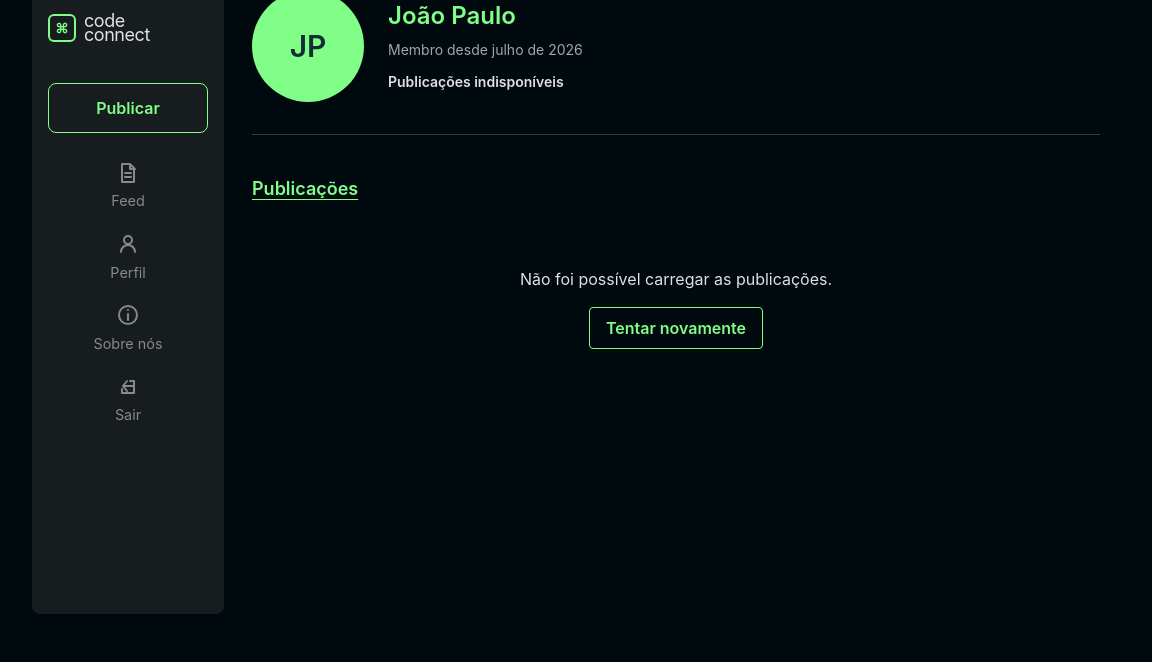
Test: ProfilePage › retries an initial error and preserves previous items on an additional-page error
expect the message shows "Não foi possível carregar as publicações.": met, box top-left (520, 269), bottom-right (832, 289)
Click the button "Tentar novamente": (676, 328) top-left (589, 307), bottom-right (763, 349)
(page scrolled)
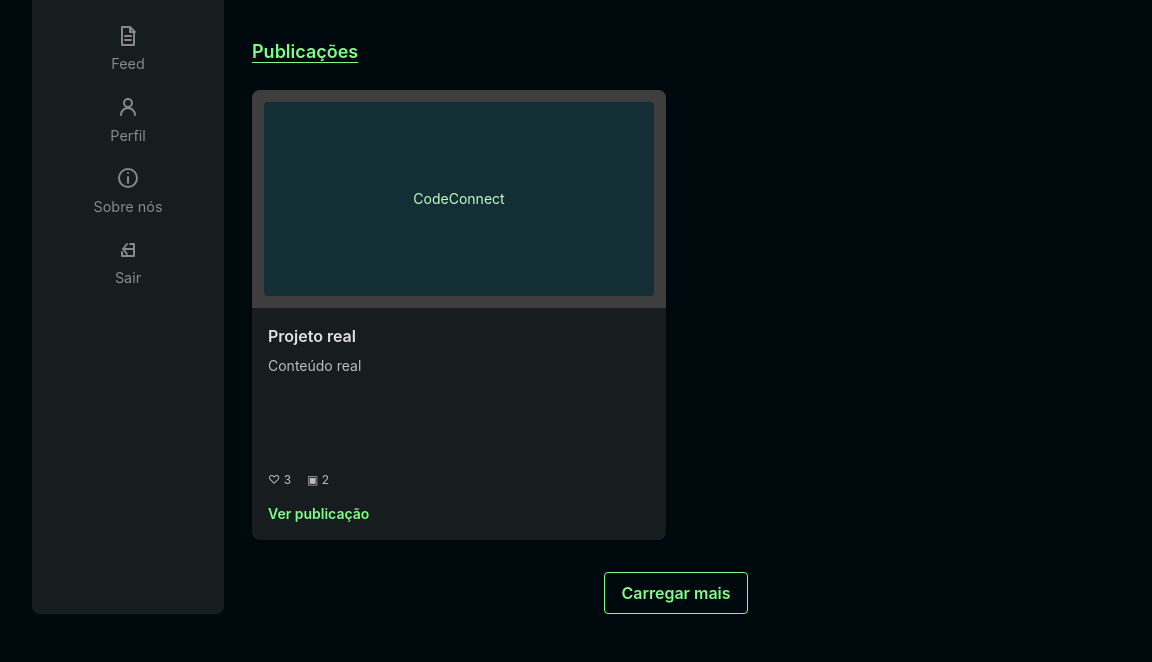
expect the heading "Projeto real" is shown: met, box top-left (268, 326), bottom-right (356, 346)
Click the button "Carregar mais": (676, 593) top-left (604, 572), bottom-right (748, 614)
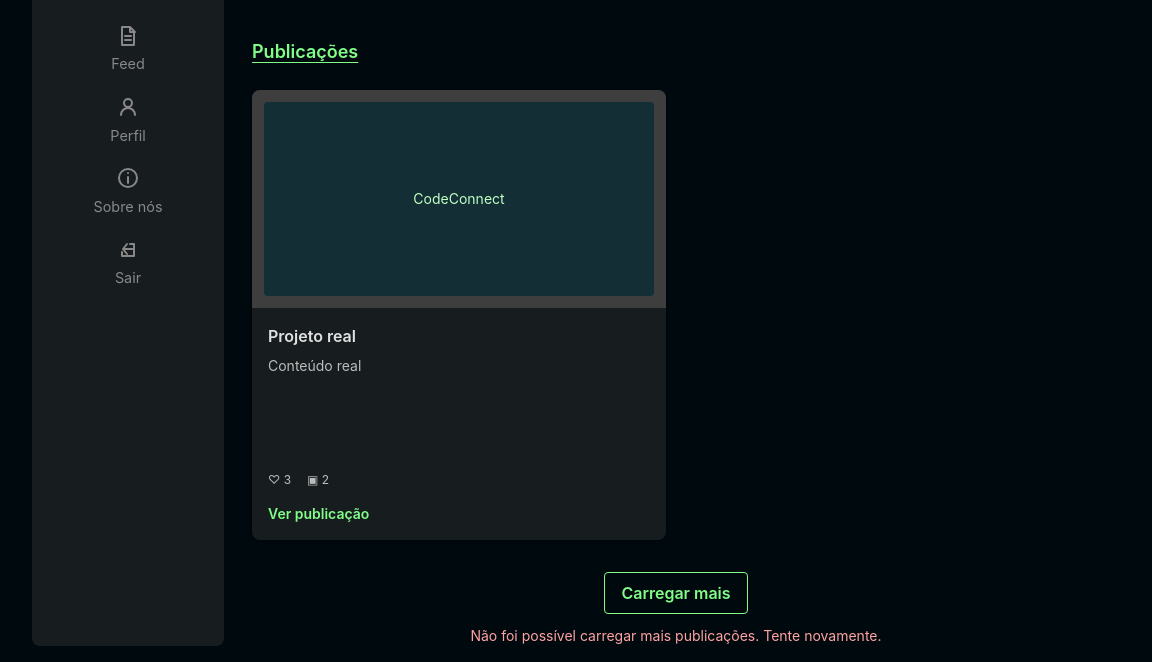
expect the heading "Projeto real" is shown: met, box top-left (268, 326), bottom-right (356, 346)
expect the message shows "Não foi possível carregar mais publicações": met, box top-left (470, 627), bottom-right (882, 644)
Click the button "Carregar mais": (676, 593) top-left (604, 572), bottom-right (748, 614)
(page scrolled)
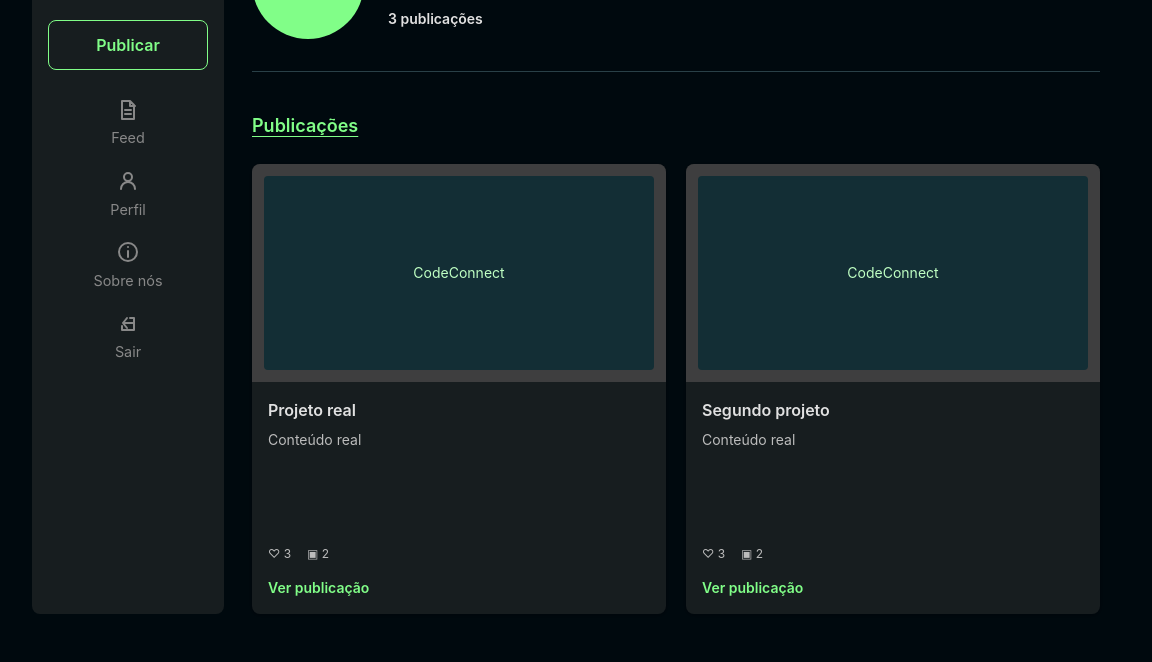
expect the heading "Segundo projeto" is shown: met, box top-left (702, 400), bottom-right (830, 420)
